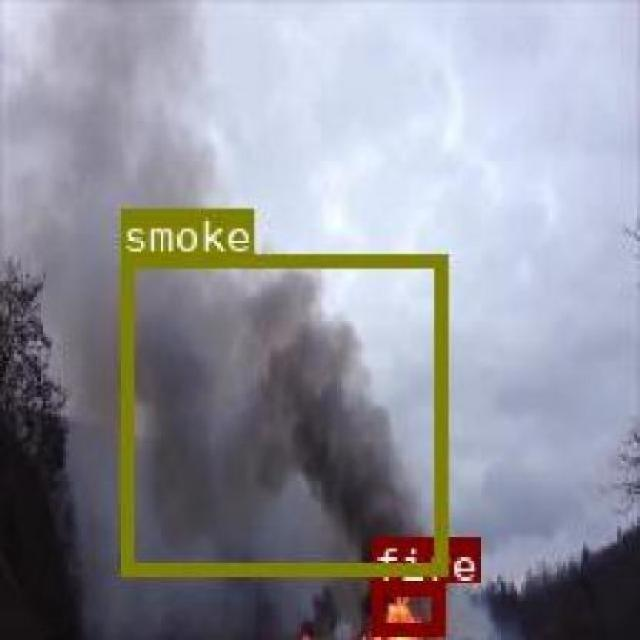fire: (368, 581, 441, 634)
smoke: (120, 252, 446, 574)
